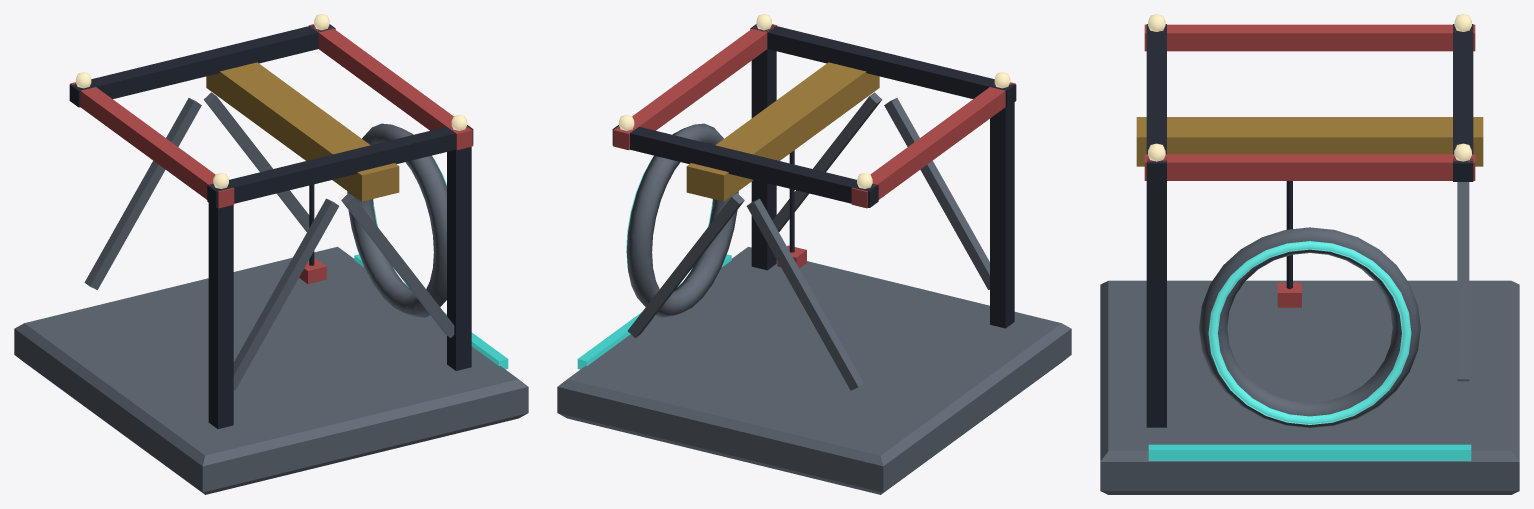
Rendered from space.glb.
The picture shows the model from 3 angles, left to right: view 1: azimuth 30°, elevation 25°; view 2: azimuth 150°, elevation 25°; view 3: azimuth 270°, elevation 25°; orthographic projection. The views are drawn at different scales.
Parts seen in each view (by area): view 1: space; view 2: space; view 3: space.
Part boxes in pixels (box(x1,y1,x2,y2)): space: box(14, 14, 528, 494); space: box(557, 14, 1071, 494); space: box(1100, 14, 1519, 494).
Bounding box in the file's own units: 1.04 × 0.905 × 1.04.
